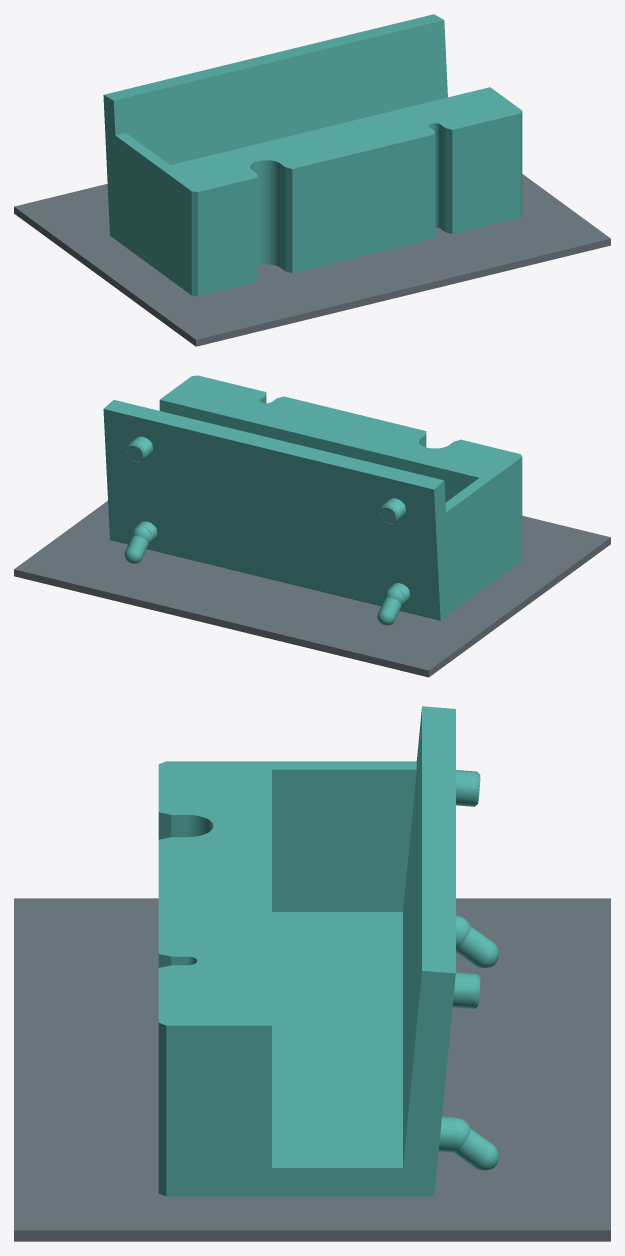
File: part-mb01-magnetic-shaft-bar-f__v1__print-flat-top.glb
The picture shows the model from 3 angles, top to bottom: view 1: azimuth 30°, elevation 25°; view 2: azimuth 150°, elevation 25°; view 3: azimuth 270°, elevation 25°; orthographic projection. The views are drawn at different scales.
Parts seen in each view (by area): view 1: Actual holder mesh, Bed; view 2: Actual holder mesh, Bed; view 3: Actual holder mesh, Bed.
Boxes of the visible parts, x1,y1,x2,y2 form: Actual holder mesh: (103, 14, 522, 296); Bed: (14, 174, 610, 346); Actual holder mesh: (103, 375, 522, 625); Bed: (14, 501, 610, 677); Actual holder mesh: (158, 706, 498, 1196); Bed: (14, 898, 610, 1241).
Size of the model in its own units: 0.125 by 0.0416 by 0.095.
